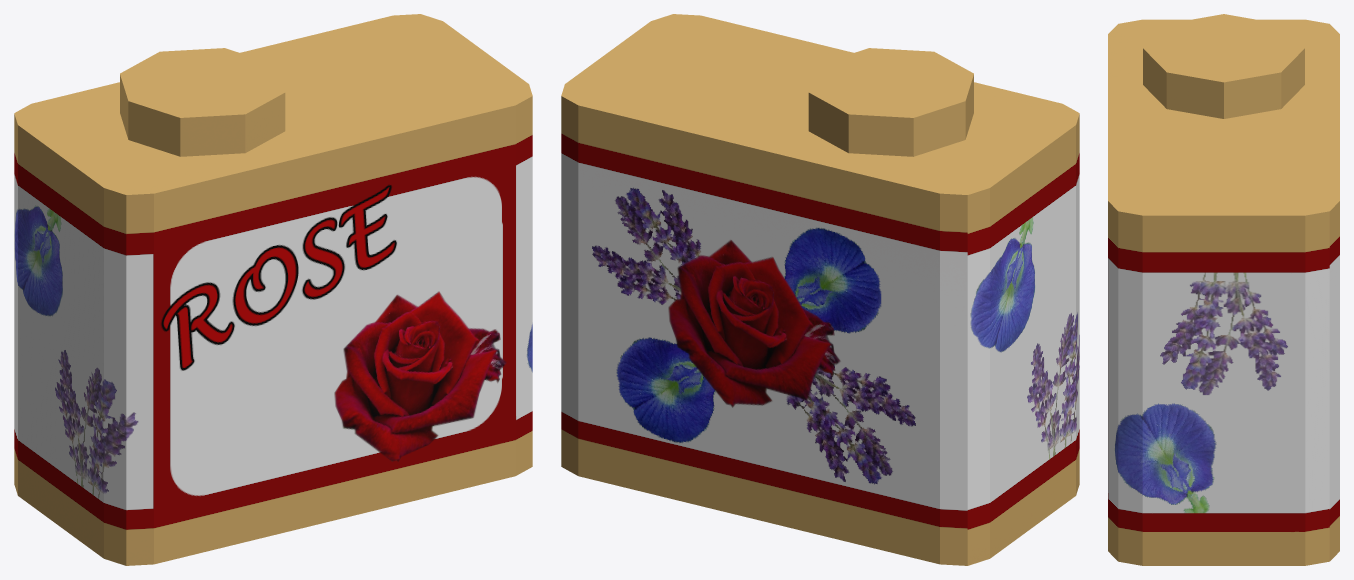
File: ShopFloralTin.fbx
The picture shows the model from 3 angles, left to right: view 1: azimuth 30°, elevation 25°; view 2: azimuth 150°, elevation 25°; view 3: azimuth 270°, elevation 25°; orthographic projection. The views are drawn at different scales.
Visible parts, largest first — view 1: FloralCandyTin; view 2: FloralCandyTin; view 3: FloralCandyTin.
Boxes of the visible parts, x1=… form: FloralCandyTin: x1=14, y1=14, x2=532, y2=565; FloralCandyTin: x1=561, y1=14, x2=1079, y2=565; FloralCandyTin: x1=1108, y1=14, x2=1339, y2=565.
Bounding box in the file's own units: 0.5 × 0.4603 × 0.25.
